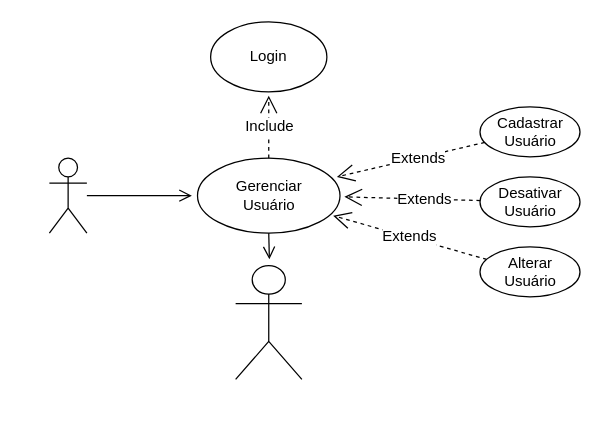
Some shapes in this 603 by 428 pixel diagram are drawn without their labels. Each missing label, with the centre of its shape:
Administrador: the point at 67,195
SGBD: the point at 268,321
